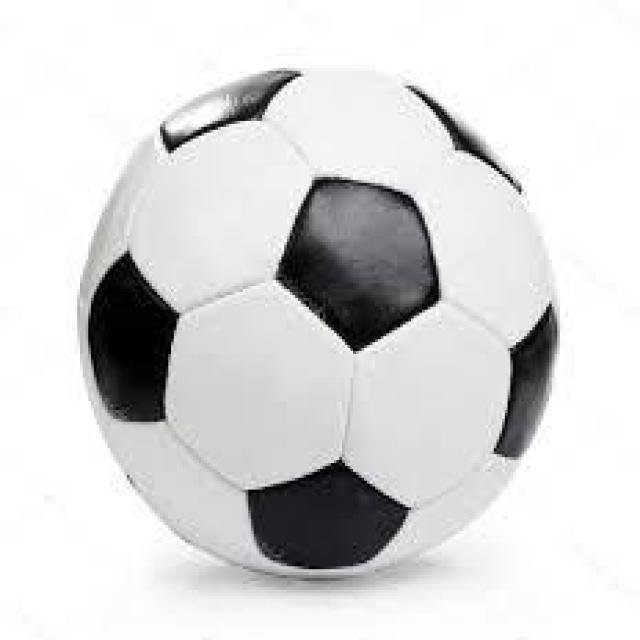Soccer Ball: (75, 68, 558, 587)
